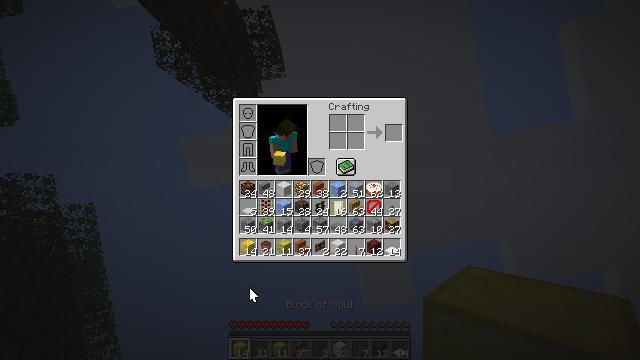cursor: (249, 287, 259, 303)
